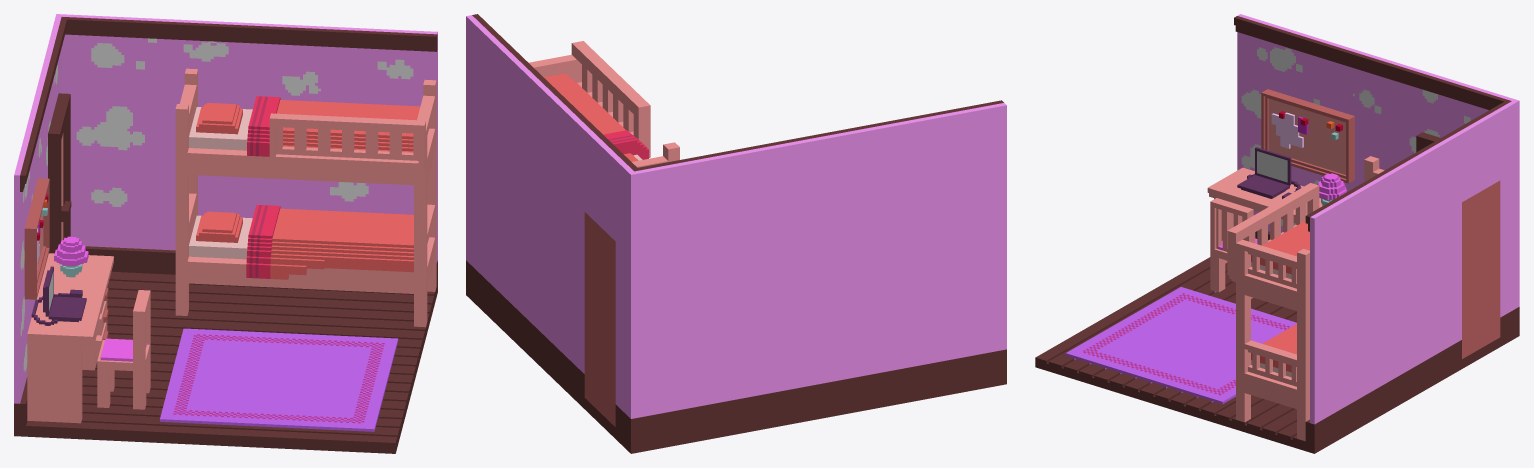
File: room_pinky_bedroom.glb
3 views of the same model, side by side, from view 1: azimuth 30°, elevation 25°; view 2: azimuth 150°, elevation 25°; view 3: azimuth 270°, elevation 25° (orthographic). The views are drawn at different scales.
Visible parts, largest first — view 1: Object_2.002; view 2: Object_2.002; view 3: Object_2.002.
Boxes of the visible parts, left/top/right/bottom form: Object_2.002: left=14, top=14, right=437, bottom=453; Object_2.002: left=466, top=14, right=1006, bottom=453; Object_2.002: left=1035, top=14, right=1519, bottom=453.
Size of the model in its own units: 159 by 85.33 by 159.
1 material, 1 textured.
